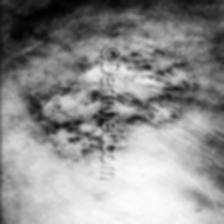Non-Cancerous Skin Condition: (31, 50, 193, 160)
